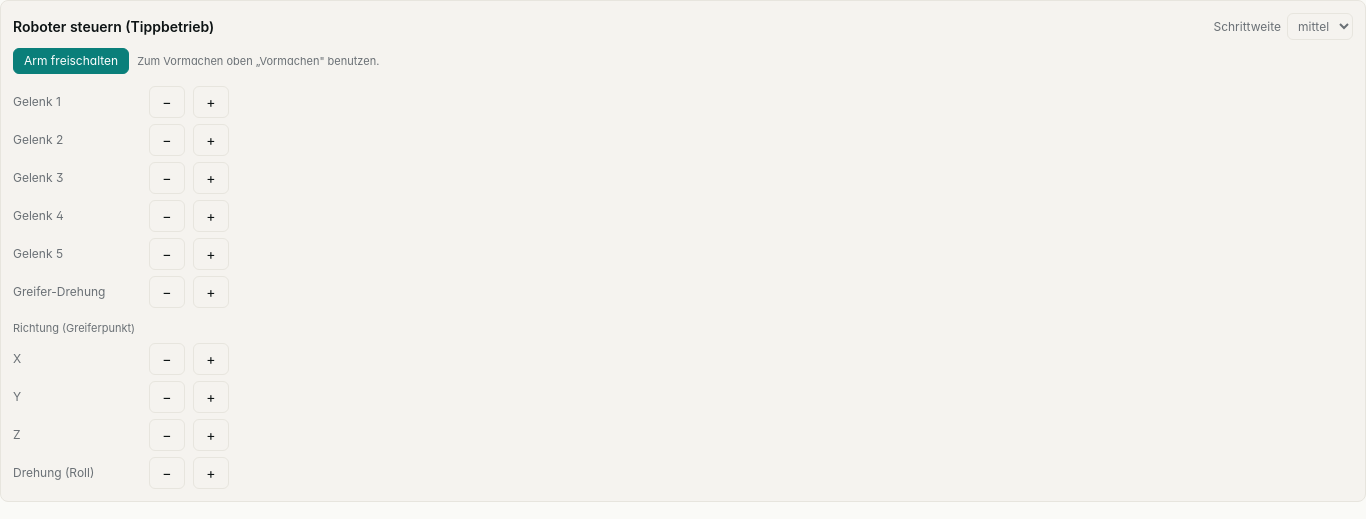
JogPanel › keeps an active hand-guide session alive with a periodic handGuide(true) (FE-4)
Click the button "Arm freischalten".
click(71, 61)  # box [13,48,129,74]
Wait 15000 ms
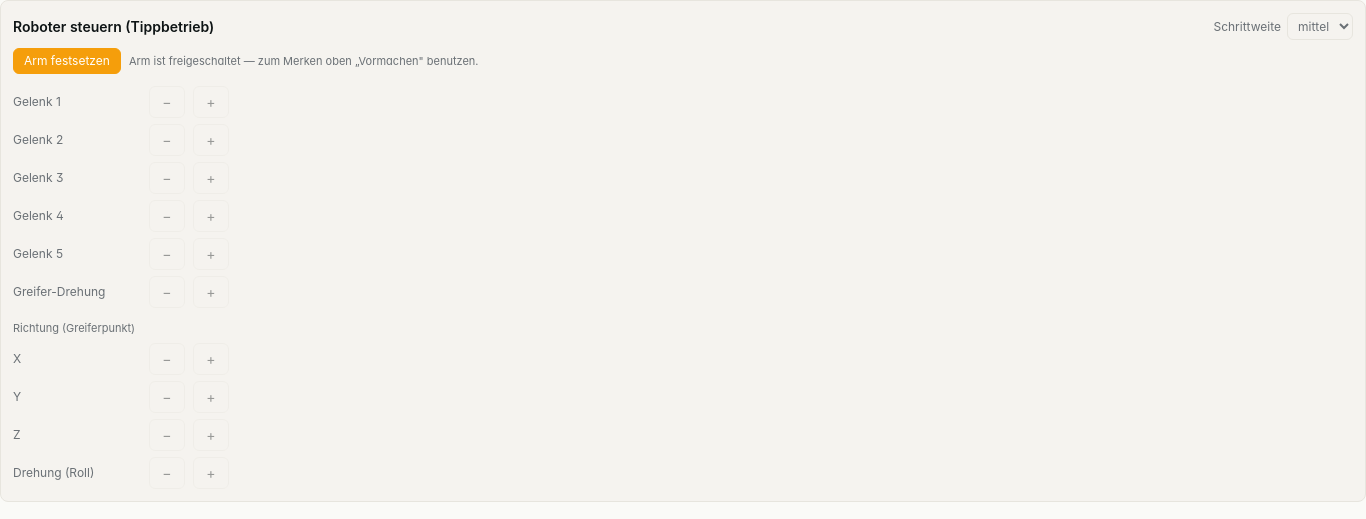
Result: the button "Arm festsetzen" is shown at [13,48,121,74]
